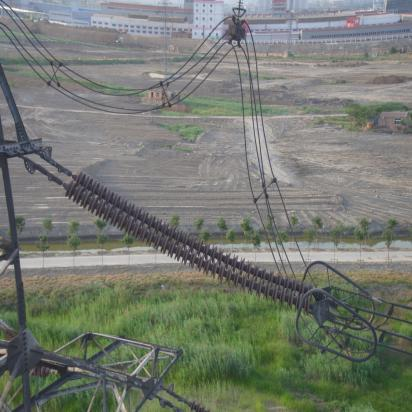insulator: (54, 167, 318, 319)
